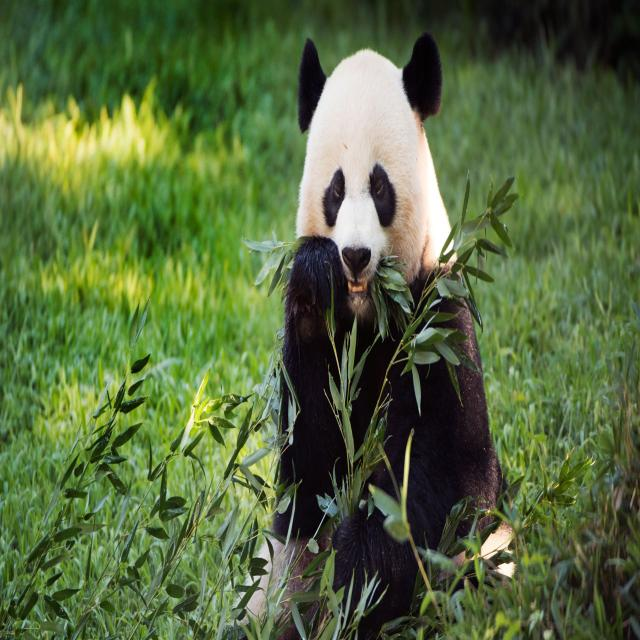Panda: (265, 22, 514, 633)
